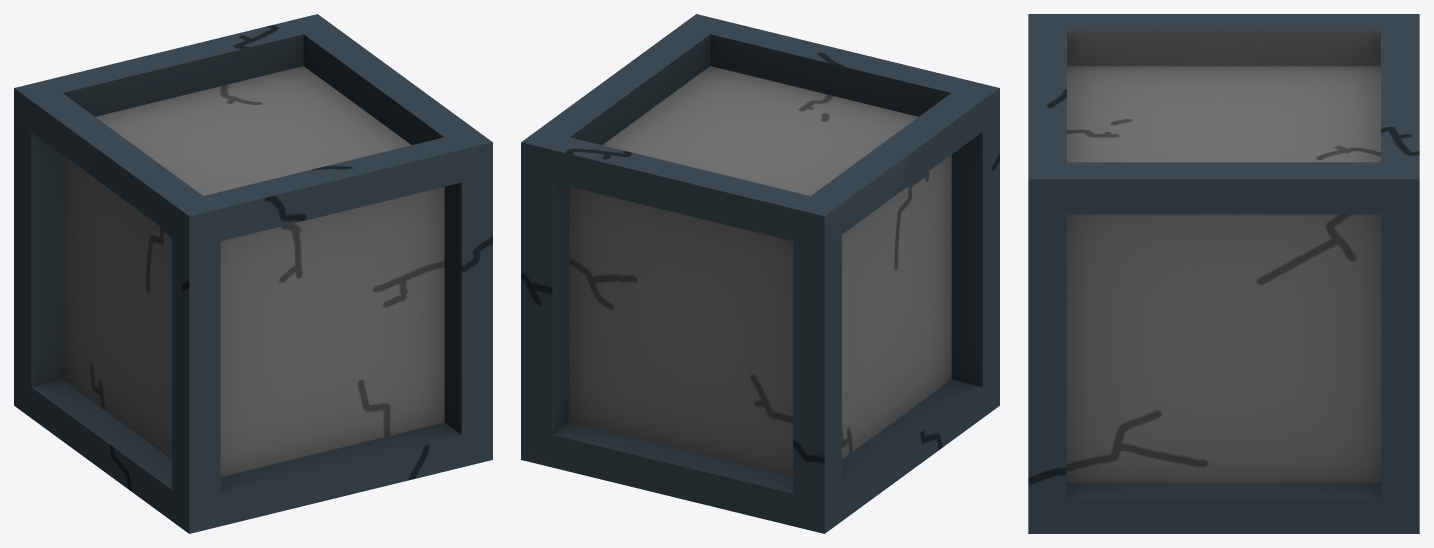
Rendered from BreakBrock1.fbx.
3 views of the same model, side by side, from view 1: azimuth 30°, elevation 25°; view 2: azimuth 150°, elevation 25°; view 3: azimuth 270°, elevation 25° (orthographic). The views are drawn at different scales.
Parts seen in each view (by area): view 1: BreakBrock; view 2: BreakBrock; view 3: BreakBrock.
Boxes of the visible parts, x1,y1,x2,y2 form: BreakBrock: (14, 14, 492, 533); BreakBrock: (521, 14, 999, 533); BreakBrock: (1028, 14, 1419, 533).
Size of the model in its own units: 100 by 100 by 100.
